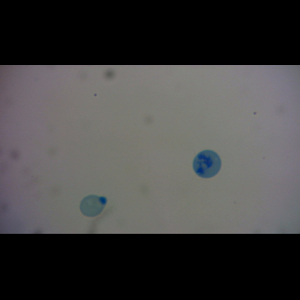aggregate reticulocyte: (192, 149, 223, 180)
erythrocyte: (79, 194, 107, 218)
